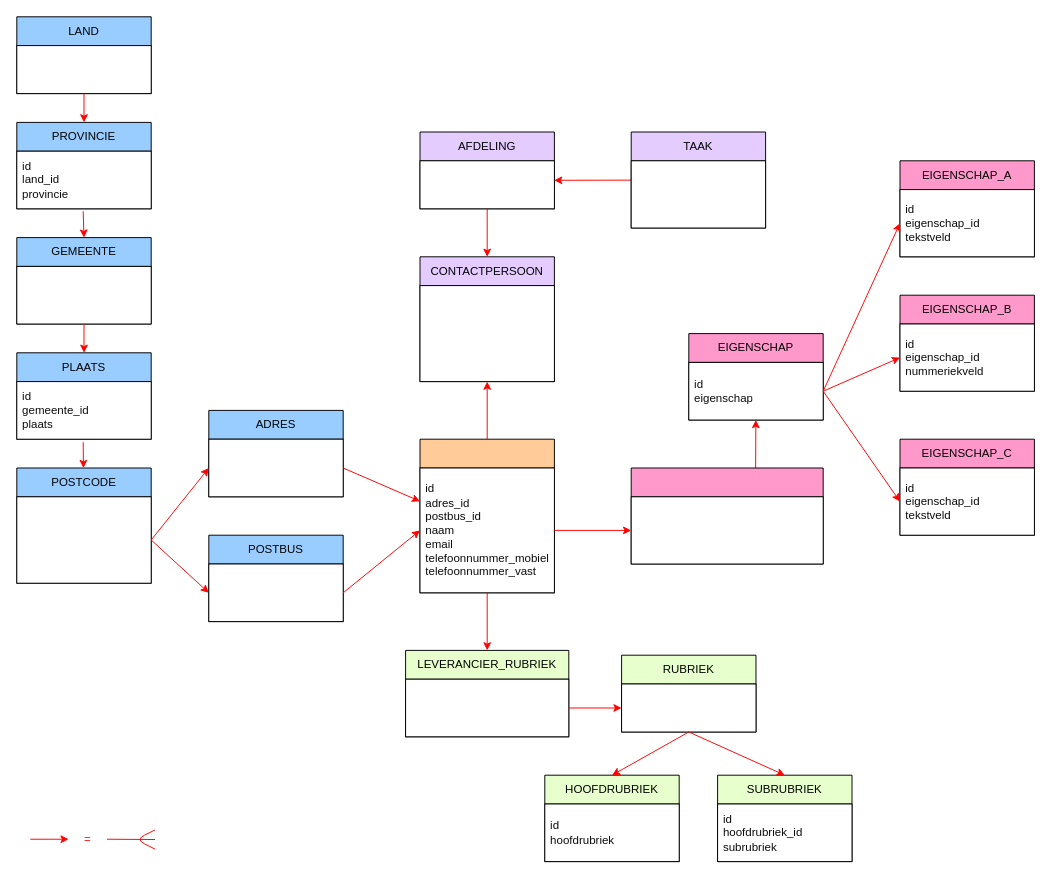
This 1051x878 diagram has some shape labels left out. Here are the shapes that lost their labels. From the top down, the box of each, then its label:
(16, 45, 151, 94): id land
(419, 160, 554, 209): id afdeling
(630, 160, 766, 228): id contactpersoon_id afdeling_id taak
(16, 265, 151, 324): id provincie_id gemeente
(419, 285, 554, 382): id leverancier_id afdeling_id naam email telefoonnummer
(208, 438, 343, 497): id postcode_id huisnummer
(419, 438, 554, 593): LEVERANCIER
(630, 467, 823, 564): LEVERANCIER_EIGENSCHAP
(630, 496, 823, 564): id eigenschap_id leverancier_id
(16, 496, 151, 583): id plaats_id postcode locatie_lat locatie_long
(208, 563, 343, 622): id postcode_id postbusnummer
(405, 678, 569, 737): id rubriek_id leverancier_id
(621, 683, 756, 732): id rubriek
